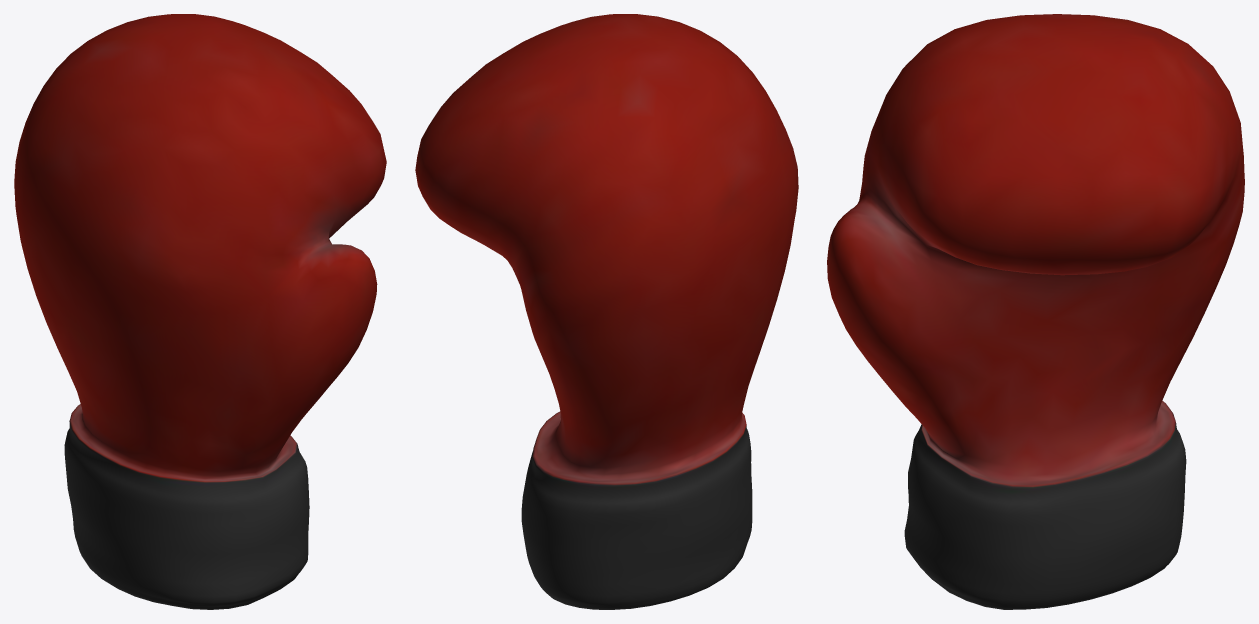
The model's file is animation_lowres.obj.
3 renders of one model, left to right at view 1: azimuth 30°, elevation 25°; view 2: azimuth 150°, elevation 25°; view 3: azimuth 270°, elevation 25°, orthographic. The views are drawn at different scales.
Visible parts, largest first — view 1: Glove; view 2: Glove; view 3: Glove.
Part boxes in pixels (bbox=[...]): Glove: bbox=[14, 14, 386, 609]; Glove: bbox=[415, 14, 798, 609]; Glove: bbox=[827, 14, 1244, 609].
Size of the model in its own units: 0.6021 by 0.9993 by 0.6978.
